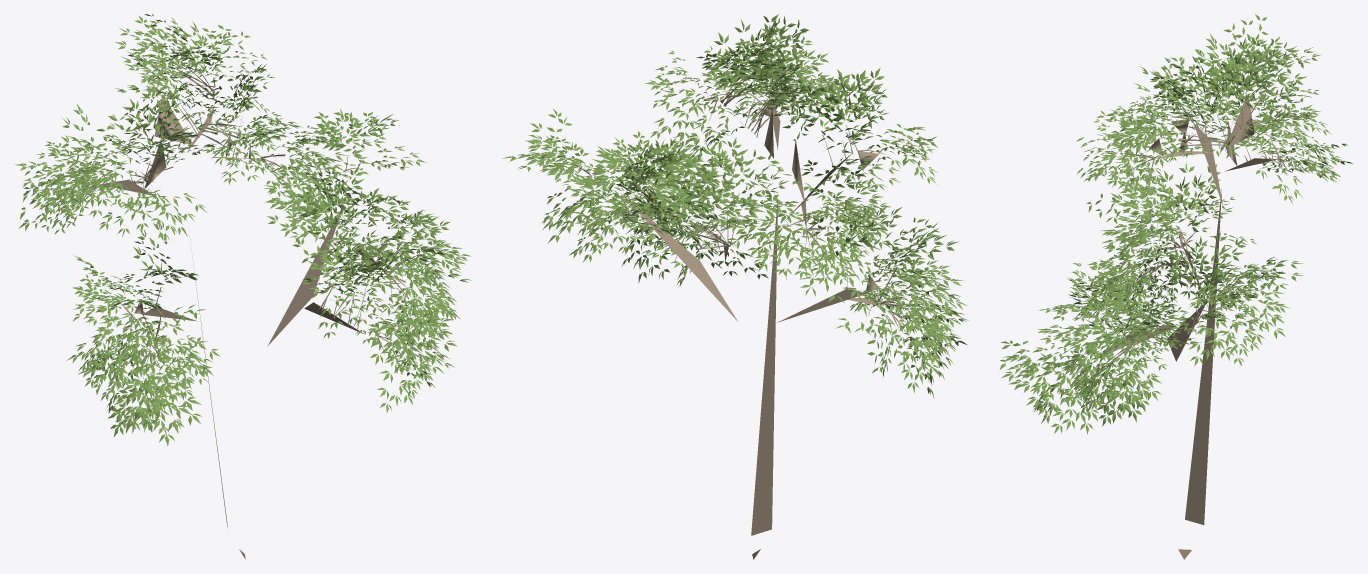
The picture shows the model from 3 angles, left to right: view 1: azimuth 30°, elevation 25°; view 2: azimuth 150°, elevation 25°; view 3: azimuth 270°, elevation 25°; orthographic projection. The views are drawn at different scales.
Parts seen in each view (by area): view 1: V21_LOD2_Foliage, V21_LOD2_Body; view 2: V21_LOD2_Foliage, V21_LOD2_Body; view 3: V21_LOD2_Foliage, V21_LOD2_Body.
Part boxes in pixels (x1=…): V21_LOD2_Foliage: x1=14, y1=14, x2=471, y2=446; V21_LOD2_Body: x1=77, y1=58, x2=409, y2=559; V21_LOD2_Foliage: x1=502, y1=14, x2=968, y2=398; V21_LOD2_Body: x1=579, y1=70, x2=908, y2=559; V21_LOD2_Foliage: x1=999, y1=14, x2=1352, y2=434; V21_LOD2_Body: x1=1070, y1=70, x2=1293, y2=559.
Size of the model in its own units: 9 by 12.3 by 7.61.
